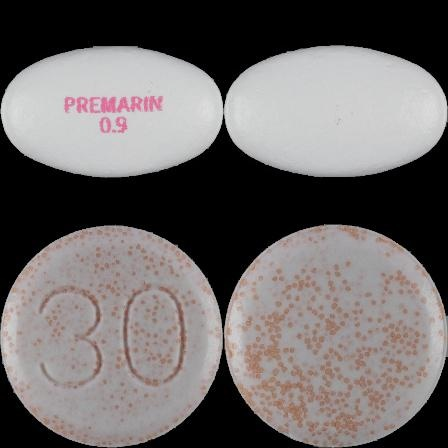55154-0219: (0, 0, 224, 224)
